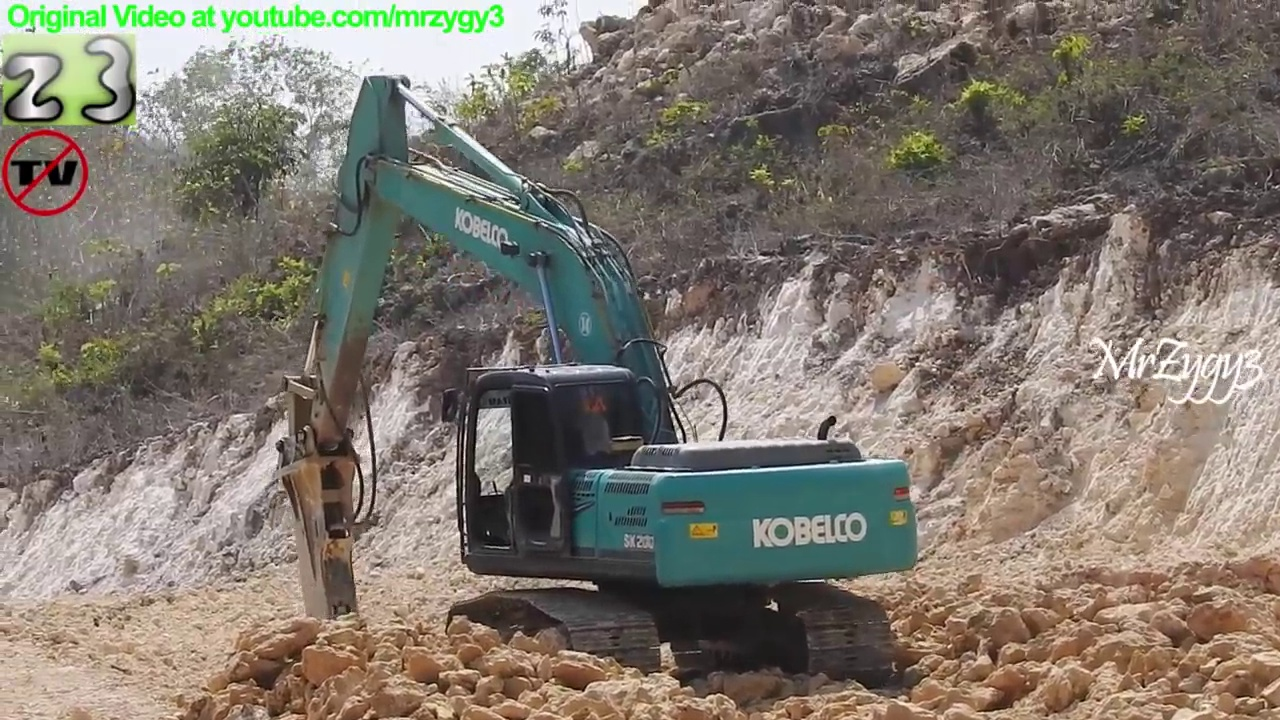excavator breaker: (269, 68, 927, 699)
